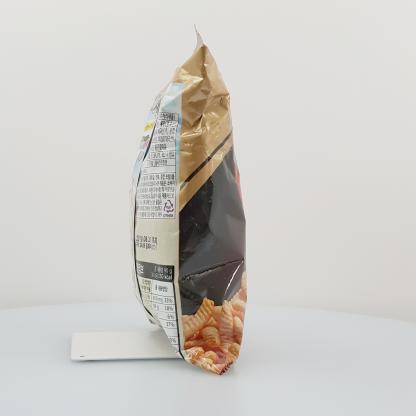Plastic Packaging: (122, 28, 256, 378)
